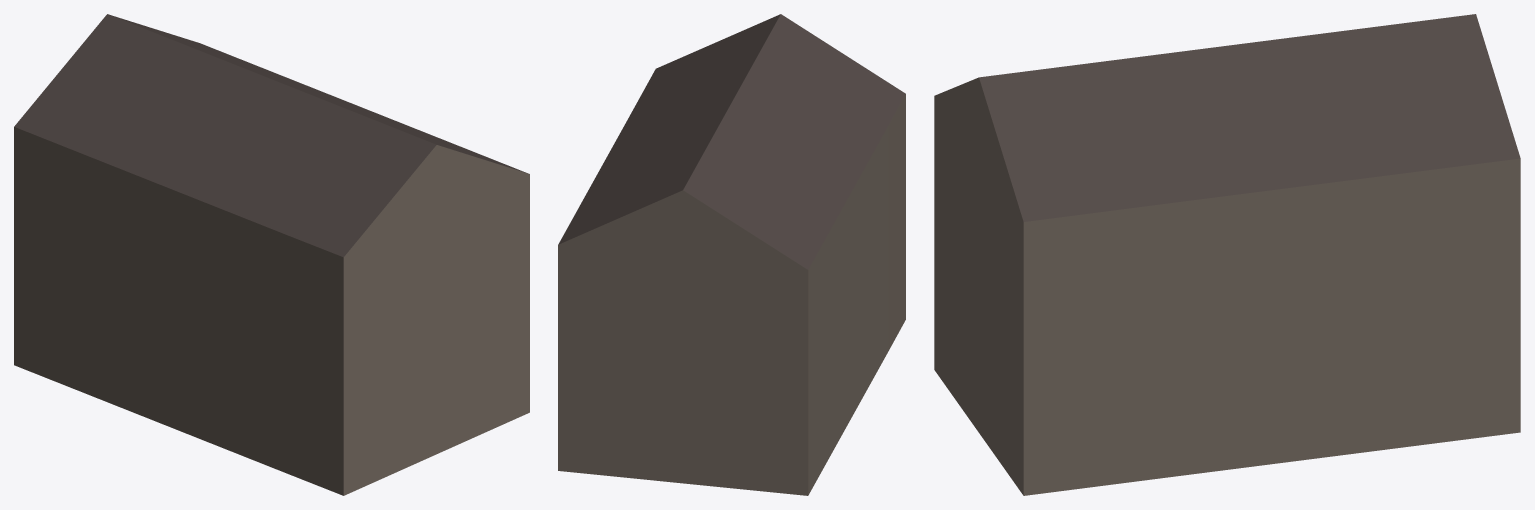
The picture shows the model from 3 angles, left to right: view 1: azimuth 30°, elevation 25°; view 2: azimuth 150°, elevation 25°; view 3: azimuth 270°, elevation 25°; orthographic projection. The views are drawn at different scales.
Parts seen in each view (by area): view 1: HP-w1198645079; view 2: HP-w1198645079; view 3: HP-w1198645079.
Part boxes in pixels (left/top/right/bottom): HP-w1198645079: left=14, top=14, right=529, bottom=495; HP-w1198645079: left=558, top=14, right=905, bottom=495; HP-w1198645079: left=934, top=14, right=1520, bottom=495.
Size of the model in its own units: 8.91 by 7.79 by 11.64.
